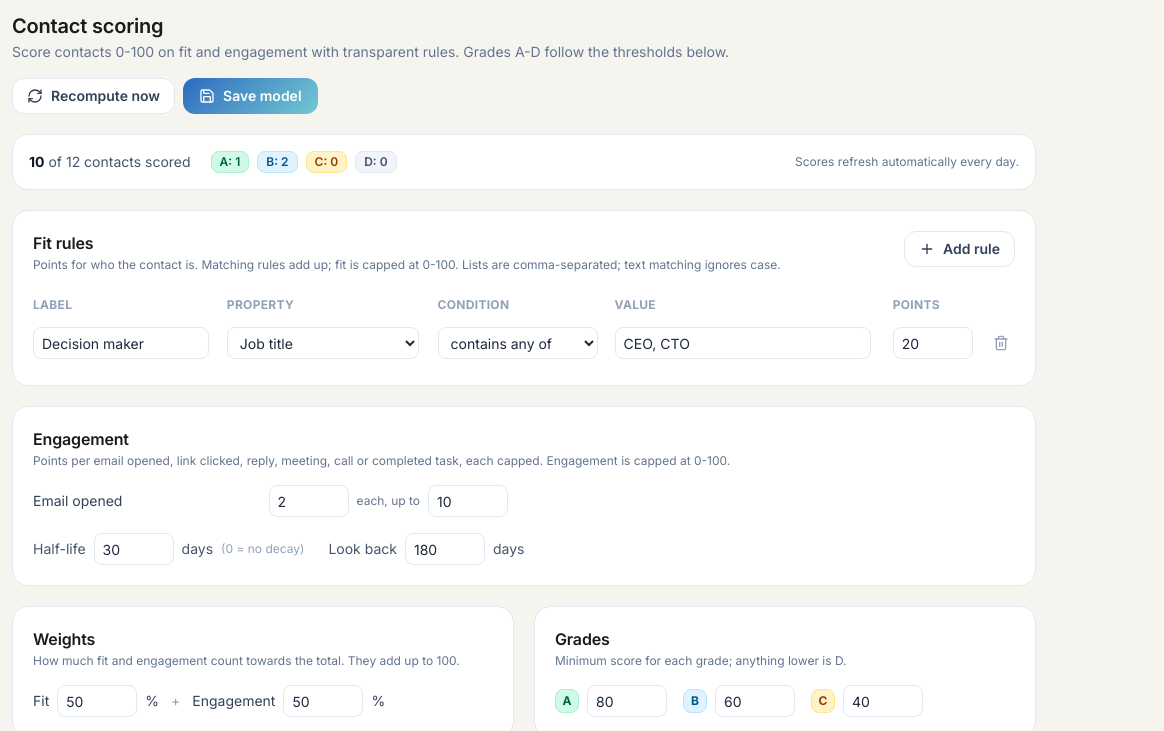
Test: ContactScoring page › adds a rule and saves the model
Click the button "Add rule" at point(960, 249), box top-left (904, 231), bottom-right (1015, 267)
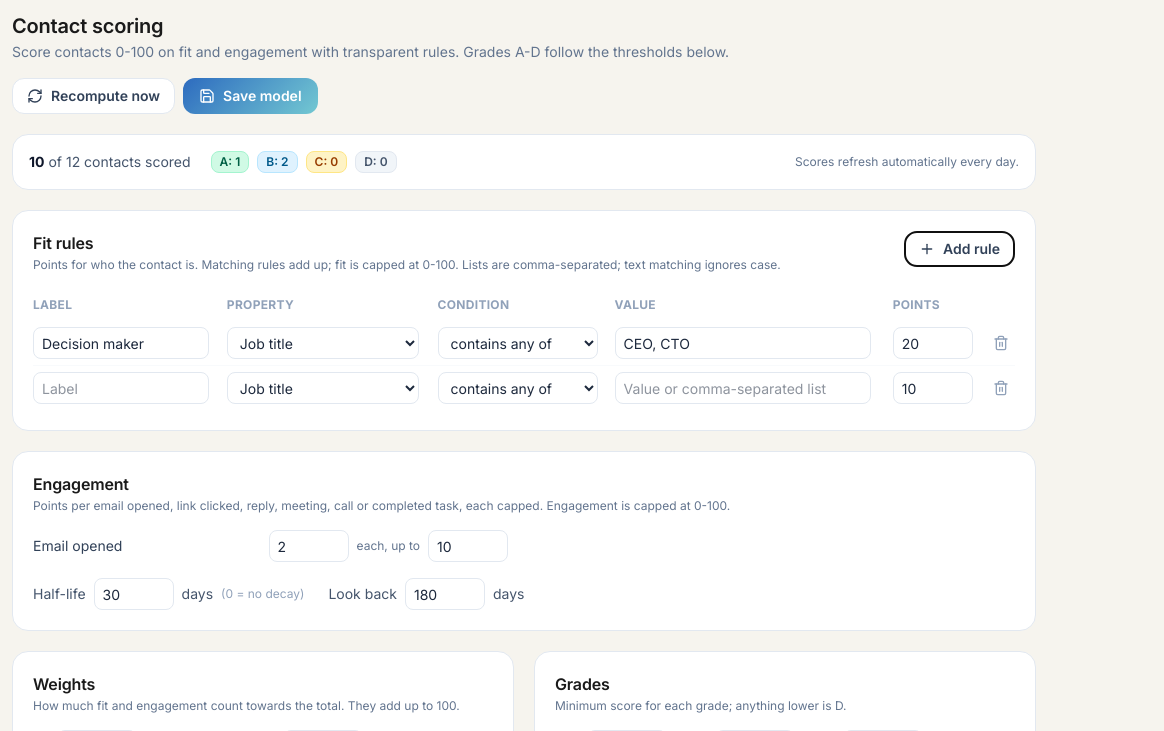
Now the number of fields named "Rule label" is 2, box top-left (33, 327), bottom-right (209, 359); top-left (33, 372), bottom-right (209, 404)
Click the button "Save model" at point(250, 96), box top-left (183, 78), bottom-right (318, 114)
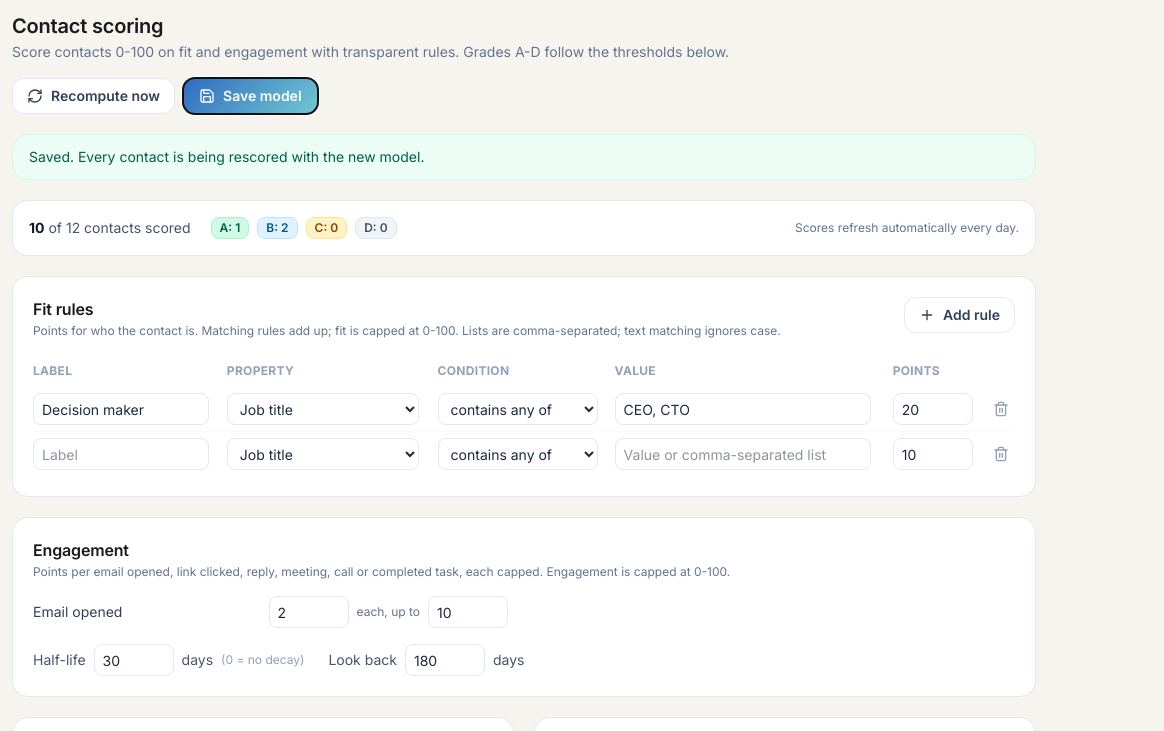
Now the text "Saved. Every contact is being rescored with the new model." is shown, box top-left (12, 134), bottom-right (1036, 180)
